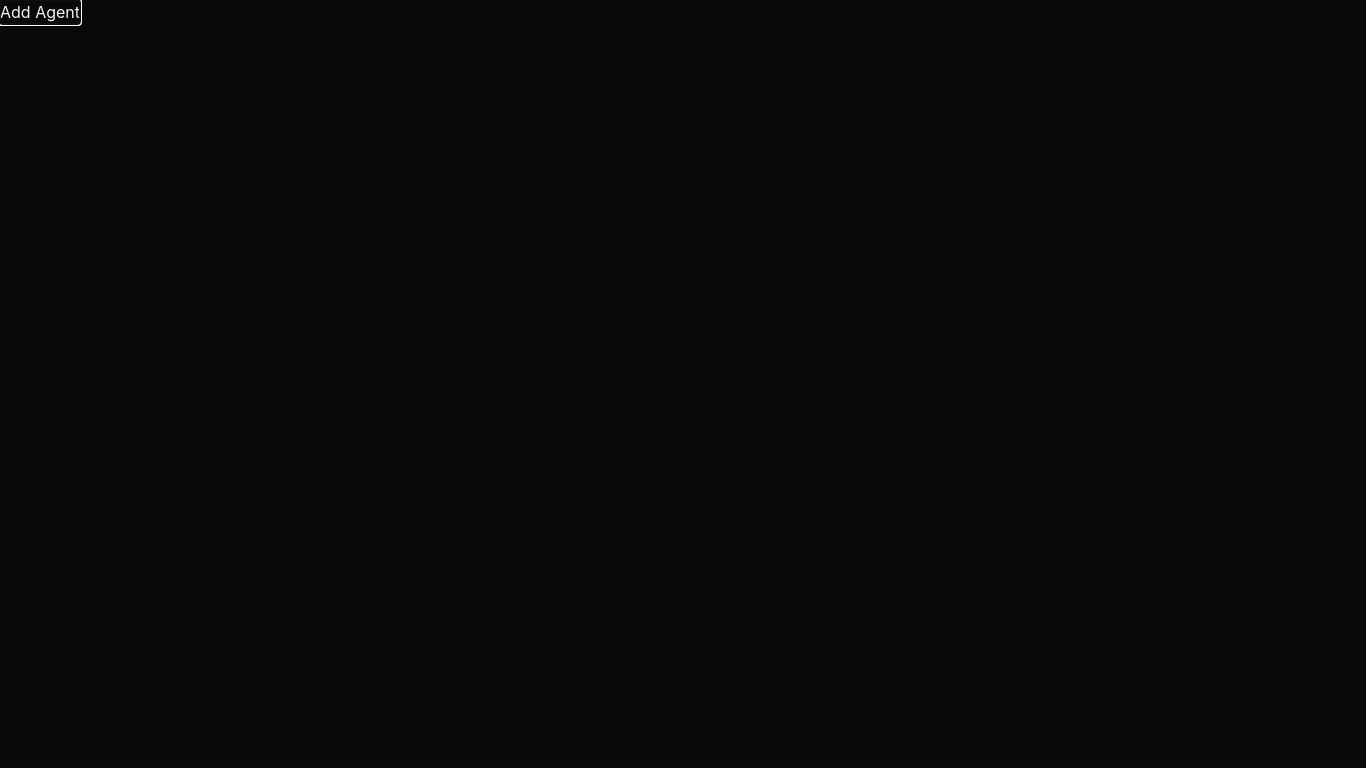
Test case: AddAgentModal error announcement › announces the empty-name error through a role=alert element
Click the button with id "opener".
click(40, 12)  # box [0,0,80,24]
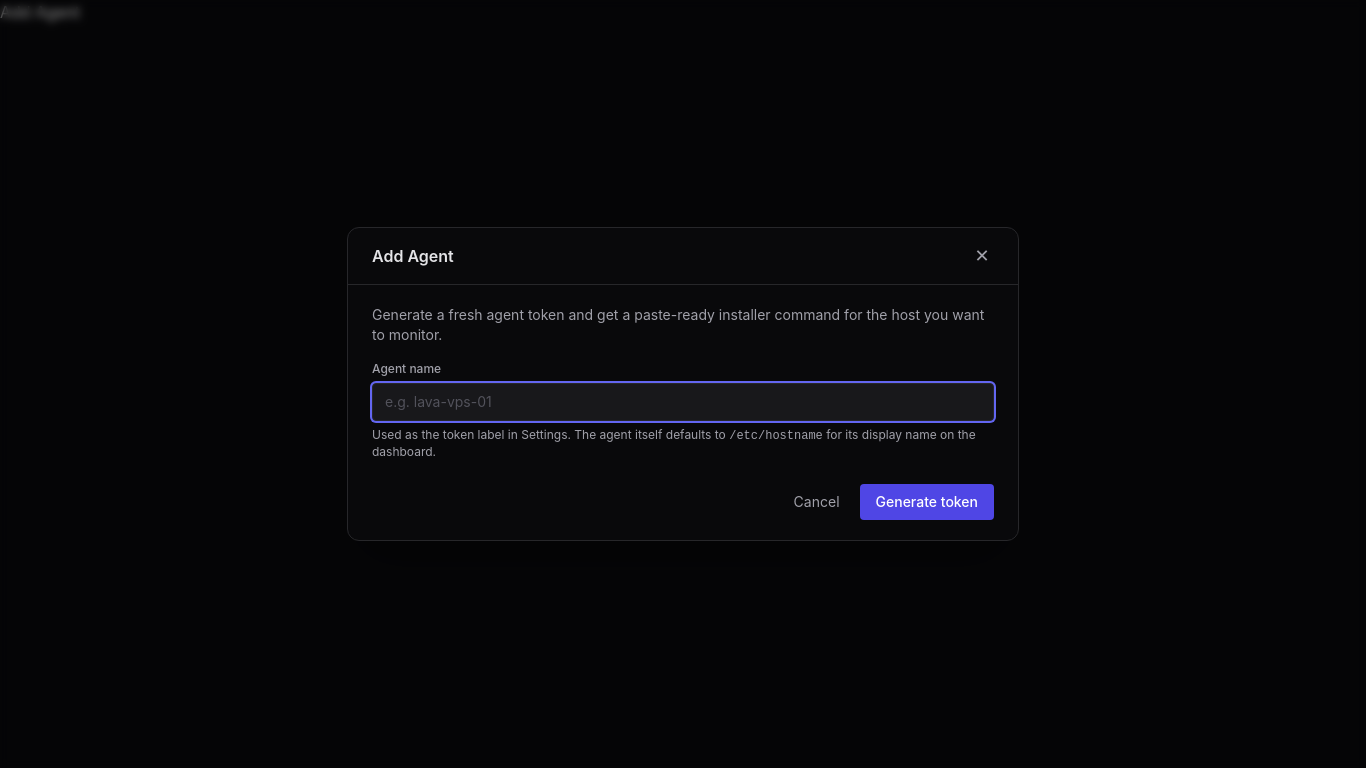
Submit the form, box [348,285,1018,540]
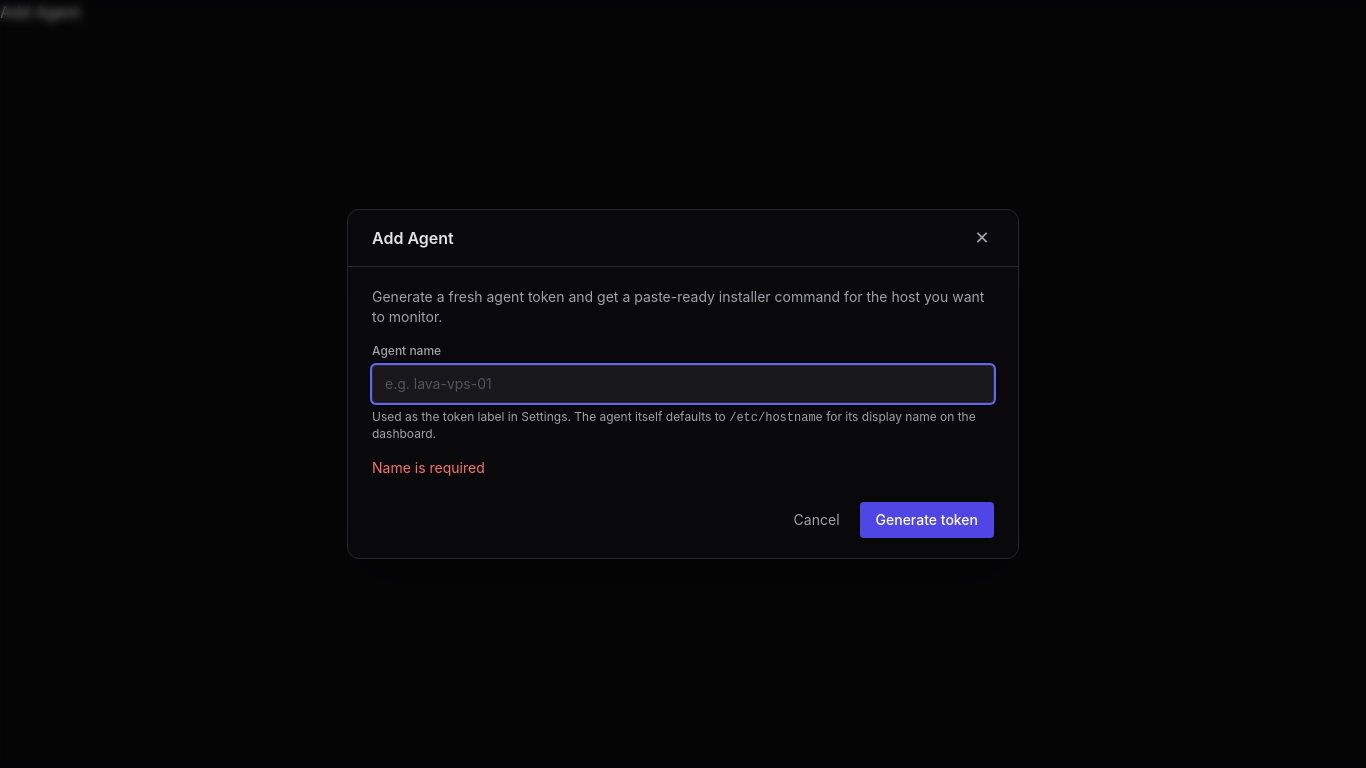
Check: the message "Name is required" is shown, box [372,459,485,476]
